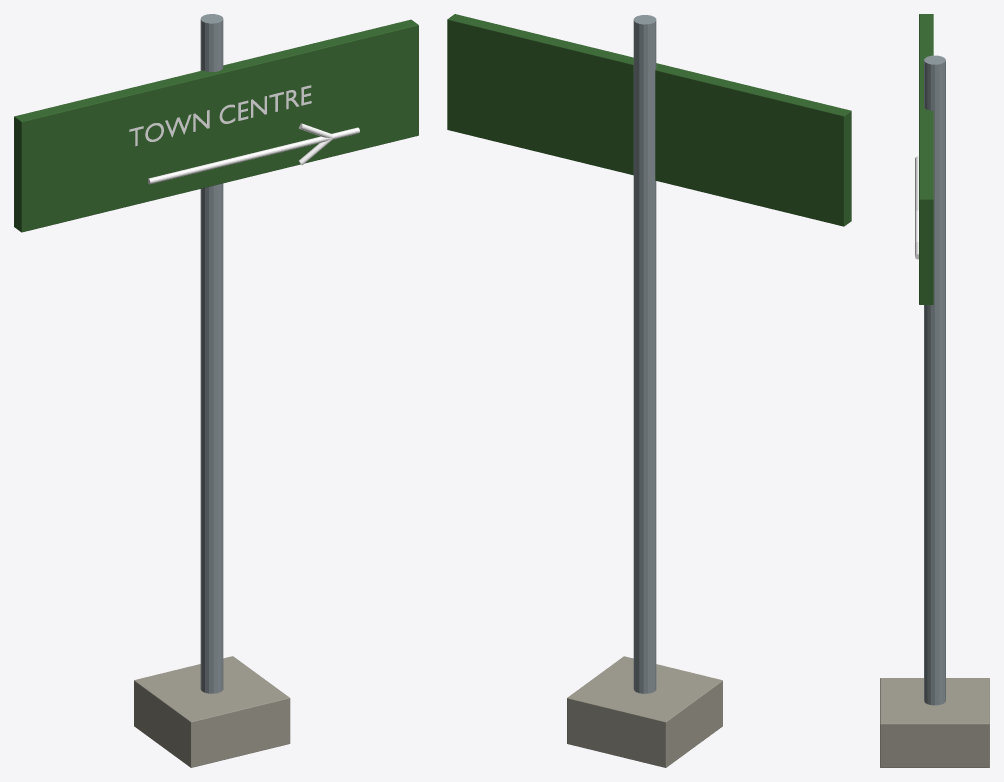
The model's file is source-edit.glb.
3 views of the same model, side by side, from view 1: azimuth 30°, elevation 25°; view 2: azimuth 150°, elevation 25°; view 3: azimuth 270°, elevation 25° (orthographic). The views are drawn at different scales.
Parts seen in each view (by area): view 1: Direction_Board, Post, Footing, Arrow_Shaft, Editable_Label_TOWN_CENTRE; view 2: Direction_Board, Post, Footing; view 3: Post, Footing, Direction_Board, Arrow_Shaft.
Part boxes in pixels (x1,y1,x2,y2): Direction_Board: (14, 19, 418, 232); Post: (200, 14, 223, 693); Footing: (134, 656, 290, 767); Arrow_Shaft: (148, 127, 359, 184); Editable_Label_TOWN_CENTRE: (129, 85, 311, 146); Direction_Board: (447, 14, 851, 226); Post: (633, 15, 656, 693); Footing: (567, 656, 722, 767); Post: (924, 55, 945, 705); Footing: (880, 678, 989, 767); Direction_Board: (919, 14, 933, 304); Arrow_Shaft: (915, 156, 918, 259).
Bounding box in the file's own units: 1.8 × 3.1 × 0.45.
